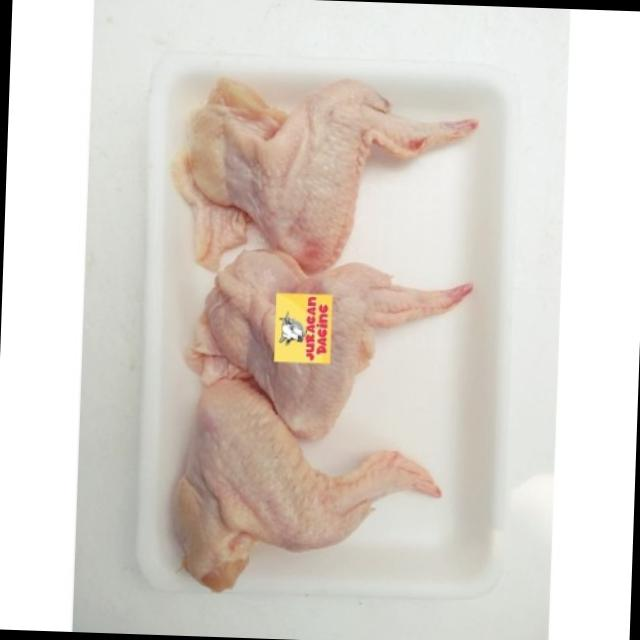chicken: (169, 372, 446, 596), (171, 78, 479, 276), (194, 250, 476, 448)
